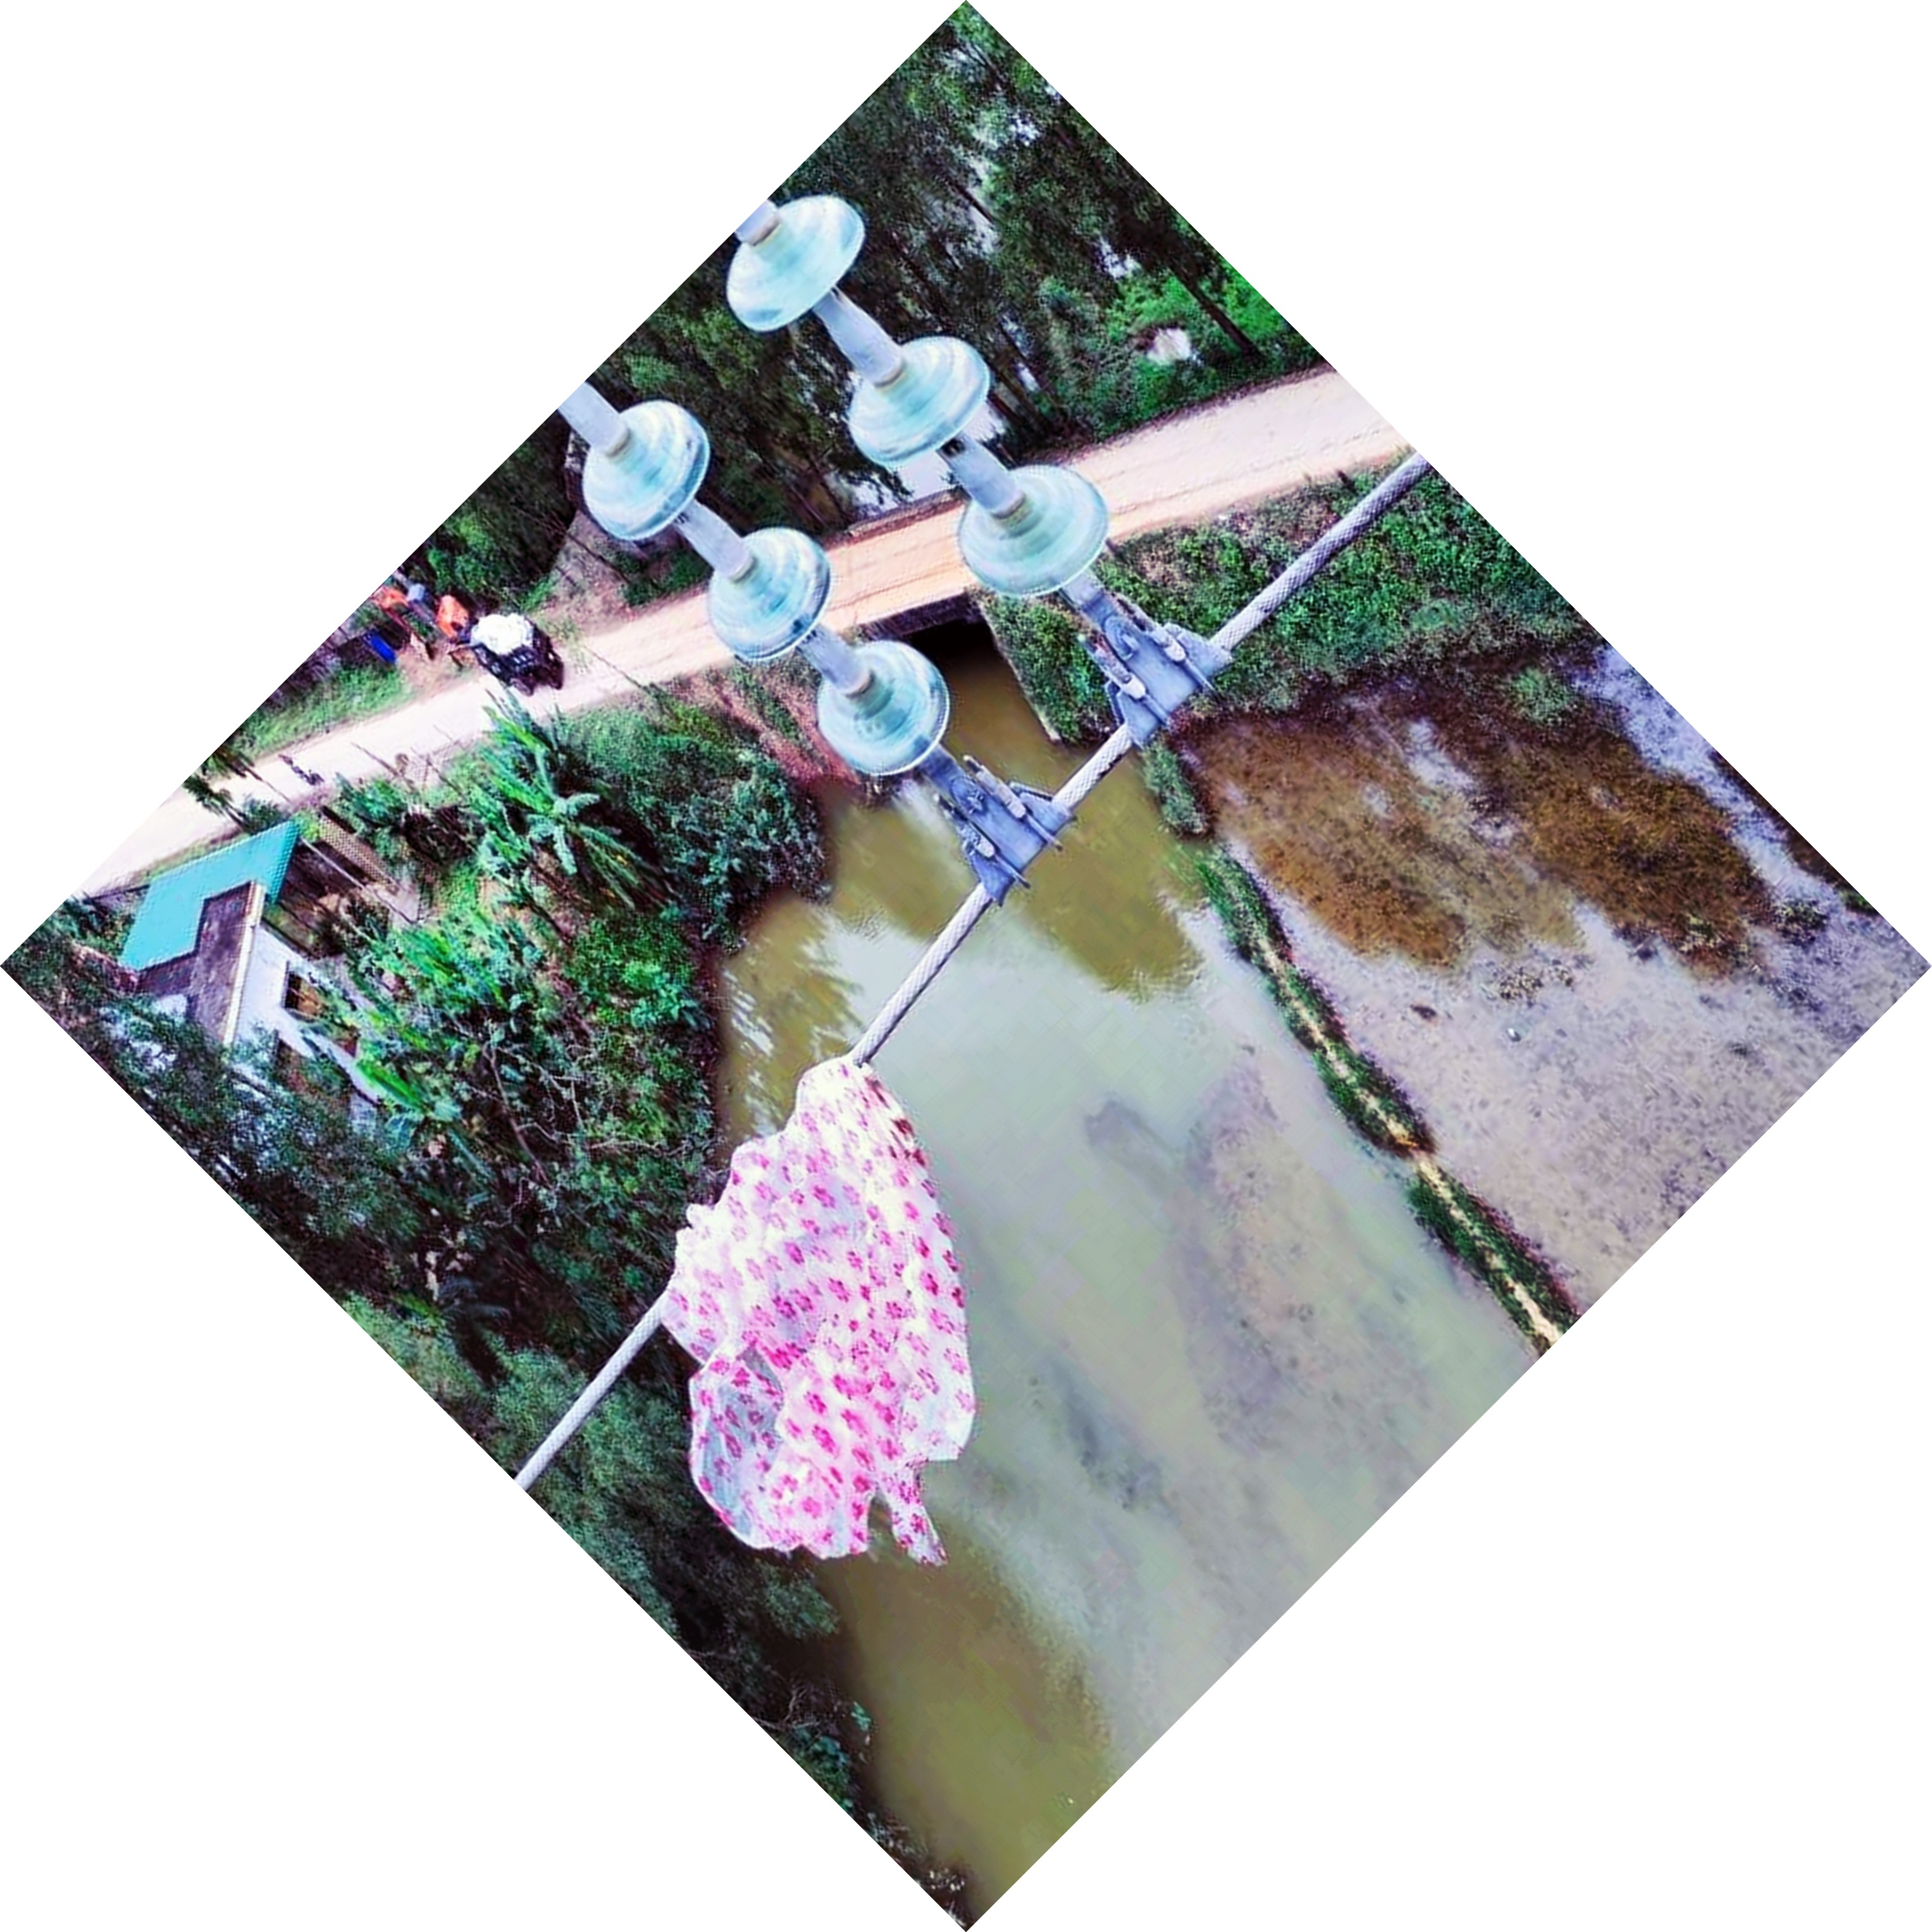wire foreign body: (605, 1028, 1023, 1594)
